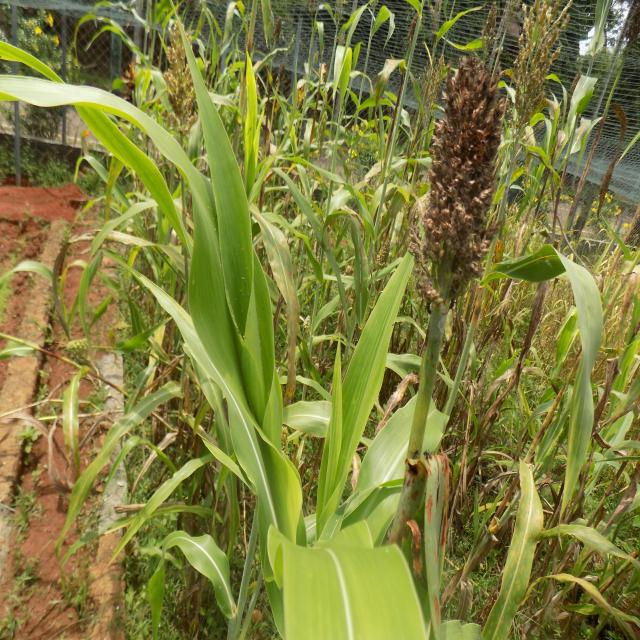millet_healthy: (0, 68, 301, 539), (318, 249, 421, 540), (271, 508, 426, 640)
